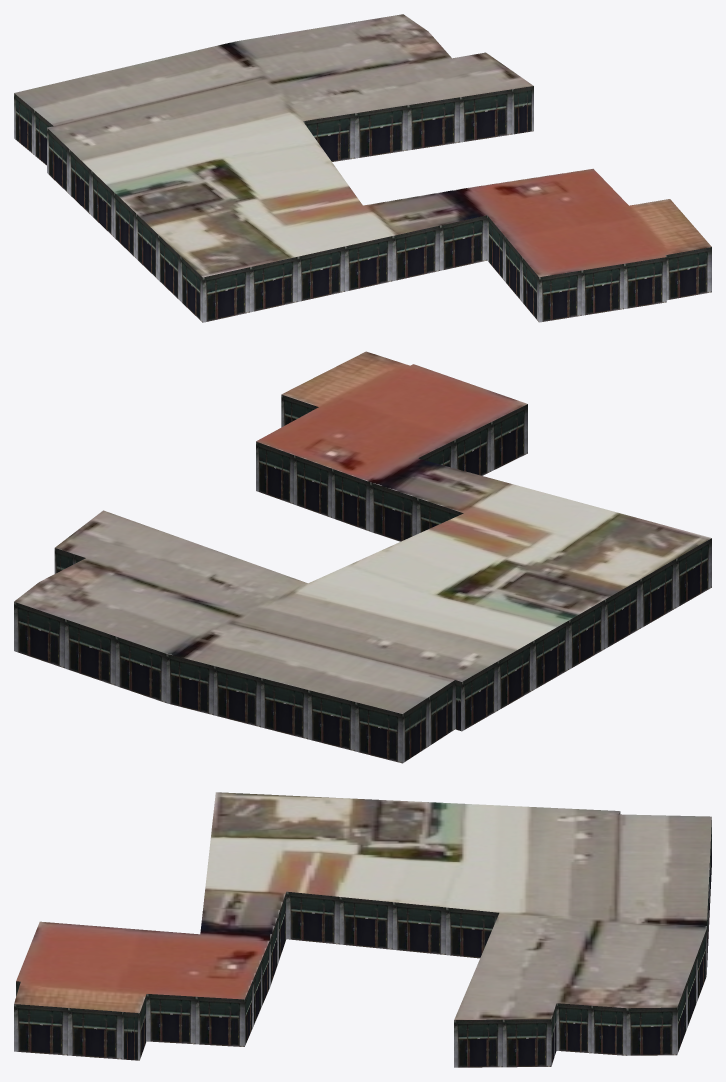
The picture shows the model from 3 angles, top to bottom: view 1: azimuth 30°, elevation 25°; view 2: azimuth 150°, elevation 25°; view 3: azimuth 270°, elevation 25°; orthographic projection. The views are drawn at different scales.
Visible parts, largest first — view 1: SketchUp (×9); view 2: SketchUp (×9); view 3: SketchUp (×11).
Part boxes in pixels (x1,y1,x2,y2): SketchUp (×9): (14,14,711,322); SketchUp (×9): (14,351,711,763); SketchUp (×11): (14,792,711,1067).
Size of the model in its own units: 49.97 by 64.68 by 4.87.
Materials: 2 (2 with a texture image).
